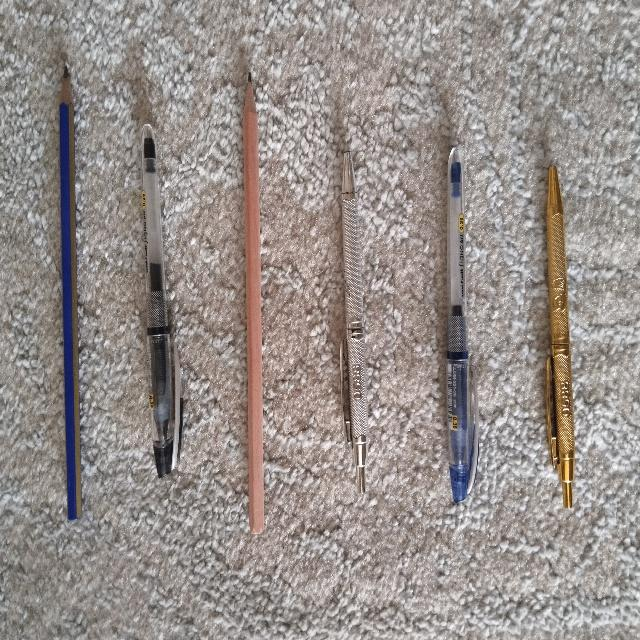pen: (142, 124, 181, 476), (447, 147, 477, 502)
pencil: (59, 65, 80, 519), (243, 74, 263, 533)
signature pen: (546, 166, 574, 507), (340, 152, 367, 492)
